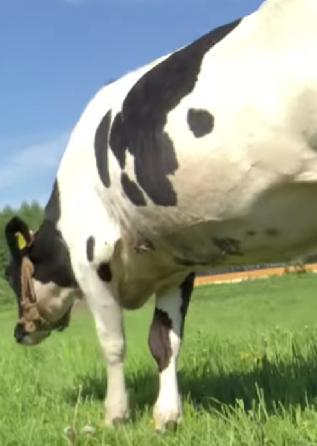cow: (8, 0, 316, 431)
